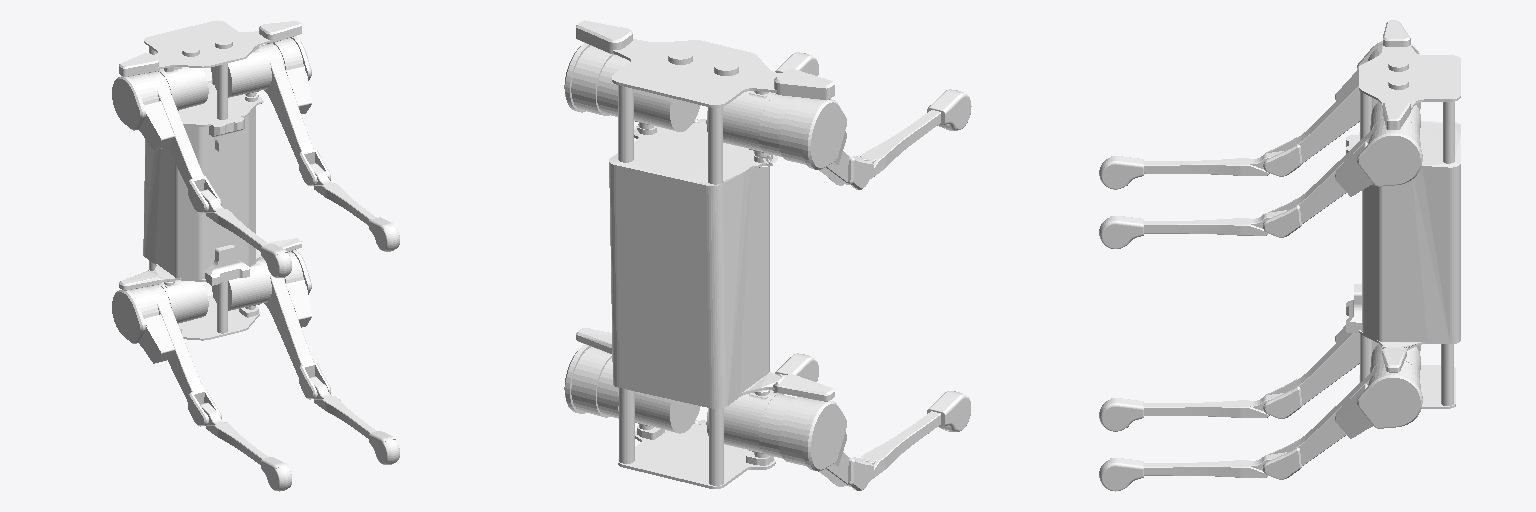
URDF robot description (plane):
<?xml version="1.0" ?>
<robot name="plane">
  <link name="chassis">
  <contact>
      <lateral_friction value="1"/>
  </contact>
    <inertial>
      <origin rpy="0 0 0" xyz="0 0.03 0.043794"/>
       <mass value="13.715"/>
       <inertia ixx="0" ixy="0" ixz="0" iyy="0" iyz="0" izz="0"/>
    </inertial>
    <visual>
      <origin rpy="0 0 0" xyz="0 0 0.043794"/>
      <geometry>
        <mesh filename="chassis.obj" scale="1 1 1"/>
      </geometry>
       <material name="white">
        <color rgba="1 1 1 1"/>
      </material>
    </visual>
    <collision>
      <origin rpy="-1.57 0 0" xyz="0 0 0.043794"/>
      <geometry>
        <mesh filename="chassis_vhacd_mod.obj" scale="1 1 1"/>
      </geometry>
    </collision>
  </link>
  <link name="FR_hip_motor">
    <contact>
      <lateral_friction value="1"/>
    </contact>
    <inertial>
       <origin rpy="0 0 0" xyz="0.02 0 0"/>
       <mass value="1.095"/>
       <inertia ixx="0" ixy="0" ixz="0" iyy="0" iyz="0" izz="0"/>
    </inertial>

    <visual>
      <origin rpy="0 0 0" xyz="0 0 0"/>
      <geometry>
        <mesh filename="hip_motor_mirror.obj" scale="1 1 1"/>
      </geometry>
       <material name="white"/>
    </visual>

    <collision>
      <origin rpy="0 0 0" xyz="0 0 0"/>
      <geometry>
        <mesh filename="hip_motor_mirror.stl" scale="1 1 1"/>
      </geometry>
    </collision>
    </link>

    <joint name="FR_hip_motor_2_chassis_joint" type="revolute">
    <axis xyz="0 0 -1"/>
    <parent link="chassis"/>
    <child link="FR_hip_motor"/>
    <origin rpy="0 0 0" xyz="-0.0817145 0 0.242889"/>
    <limit effort="100" velocity="100" lower="-0.873" upper="1.0472"/>
    <joint_properties damping=".0" friction=".0"/>
  </joint>

     <link name="FR_upper_leg">
  <contact>
      <lateral_friction value="1"/>
  </contact>
    <inertial>
     <origin rpy="0 0 0" xyz="0 -0.04 -0.04"/>
       <mass value="1.527"/>
       <inertia ixx="0" ixy="0" ixz="0" iyy="0" iyz="0" izz="0"/>
    </inertial>
       <visual>
      <origin rpy="0 0 0" xyz="0 0 0"/>
      <geometry>
        <mesh filename="upper_leg_mirror.obj" scale="1 1 1"/>
      </geometry>
       <material name="white"/>
    </visual>

    <collision>
      <origin rpy="0 0 0" xyz="0 0 0"/>
      <geometry>
        <mesh filename="upper_leg_right_vhacd.obj" scale="1 1 1"/>
      </geometry>
    </collision>

    </link>

    <joint name="FR_upper_leg_2_hip_motor_joint" type="revolute">
    <axis xyz="1 0 0"/>
    <parent link="FR_hip_motor"/>
    <child link="FR_upper_leg"/>
    <origin rpy="0 0 0" xyz="-0.053565 0 0"/>
    <limit effort="100" velocity="100" lower="-1.3" upper="3.4"/>
    <joint_properties damping=".0" friction=".0"/>
  </joint>

     <link name="FR_lower_leg">
  <contact>
      <lateral_friction value="1"/>
  </contact>
    <inertial>
      <origin rpy="0 0 0" xyz="0 -0.16 -0.02"/>
       <mass value="0.241"/>
       <inertia ixx="0" ixy="0" ixz="0" iyy="0" iyz="0" izz="0"/>
    </inertial>
       <visual>
      <origin rpy="0 1.57079 0" xyz="0 0.0 0"/>
      <geometry>
        <mesh filename="lower_leg3.obj" scale="1 1 1"/>
      </geometry>
       <material name="white"/>
    </visual>

    <collision>
      <origin rpy="0 1.57079 0" xyz="0 0.0 0"/>
      <geometry>
        <mesh filename="lower_leg_3.stl" scale="1 1 1"/>
      </geometry>
    </collision>
    </link>
    <joint name="FR_lower_leg_2_upper_leg_joint" type="revolute">
    <axis xyz="1 0 0"/>
    <parent link="FR_upper_leg"/>
    <child link="FR_lower_leg"/>

    <origin rpy="0 0 0" xyz="0.02069  -0.20833  -0.1422"/>
    <limit effort="100" velocity="100" lower="-2.164" upper="0"/>
    <joint_properties damping=".0" friction=".0"/>
  </joint>


   <link name="FL_hip_motor">
  <contact>
      <lateral_friction value="1"/>
  </contact>
    <inertial>
     <origin rpy="0 0 0" xyz="-.02 0 0"/>
       <mass value="1.095"/>
       <inertia ixx="0" ixy="0" ixz="0" iyy="0" iyz="0" izz="0"/>
    </inertial>
    <visual>
      <origin rpy="0 0 0" xyz="0 0 0"/>
      <geometry>
        <mesh filename="hip_motor.obj" scale="1 1 1"/>
      </geometry>
       <material name="white">
      </material>
    </visual>

    <collision>
      <origin rpy="0 0 0" xyz="0 0 0"/>
      <geometry>
        <mesh filename="hip_motor.stl" scale="1 1 1"/>
      </geometry>
    </collision>

      </link>

   <joint name="FL_hip_motor_2_chassis_joint" type="revolute">
    <axis xyz="0 0 1"/>
    <parent link="chassis"/>
    <child link="FL_hip_motor"/>
    <origin rpy="0 0 0" xyz="0.0817145 0 0.242889"/>
    <limit effort="100" velocity="100" lower="-0.873" upper="1.0472"/>
    <joint_properties damping=".0" friction=".0"/>
  </joint>

  <link name="FL_upper_leg">
  <contact>
      <lateral_friction value="1"/>
  </contact>
    <inertial>
       <origin rpy="0 0 0" xyz="0 -0.04 -0.04"/>
       <mass value="1.527"/>
       <inertia ixx="0" ixy="0" ixz="0" iyy="0" iyz="0" izz="0"/>
    </inertial>
     <visual>
      <origin rpy="0 0 0" xyz="0 0 0"/>
      <geometry>

        <mesh filename="upper_leg_left.obj" scale="1 1 1"/>
      </geometry>
       <material name="white">
      </material>
    </visual>

     <collision>
      <origin rpy="0 0 0" xyz="0 0 0"/>
      <geometry>
        <mesh filename="upper_leg_left_vhacd.obj" scale="1 1 1"/>
      </geometry>
    </collision>

    </link>


  <joint name="FL_upper_leg_2_hip_motor_joint" type="revolute">
    <axis xyz="1 0 0"/>
    <parent link="FL_hip_motor"/>
    <child link="FL_upper_leg"/>
    <origin rpy="0 0 0" xyz="0.055855  0 0"/>
    <limit effort="100" velocity="100" lower="-1.3" upper="3.4"/>
    <joint_properties damping=".0" friction=".0"/>
  </joint>


  <link name="FL_lower_leg">
  <contact>
      <lateral_friction value="1"/>
  </contact>
    <inertial>
      <origin rpy="0 0 0" xyz="0 -0.16 -0.02"/>
       <mass value="0.241"/>
       <inertia ixx="0" ixy="0" ixz="0" iyy="0" iyz="0" izz="0"/>
    </inertial>
   <visual>
      <origin rpy="0 1.57079 0" xyz="0 0 0"/>
      <geometry>
        <mesh filename="lower_leg3.obj" scale="1 1 1"/>
      </geometry>
       <material name="white">
       </material>
    </visual>

     <collision>
      <origin rpy="0 1.57079 0" xyz="0 0 0"/>
      <geometry>
        <mesh filename="lower_leg_3.stl" scale="1 1 1"/>
      </geometry>
    </collision>

    </link>

  <joint name="FL_lower_leg_2_upper_leg_joint" type="revolute">
    <axis xyz="1 0 0"/>
    <parent link="FL_upper_leg"/>
    <child link="FL_lower_leg"/>
    <origin rpy="0 0 0" xyz="-0.02069  -0.20833  -0.1422"/>
    <limit effort="100" velocity="100" lower="-2.164" upper="0"/>
    <joint_properties damping=".0" friction=".0"/>
  </joint>






   <link name="RR_hip_motor">
  <contact>
      <lateral_friction value="1"/>
  </contact>
    <inertial>
      <origin rpy="0 0 0" xyz="0.02 0 0"/>
       <mass value="1.095"/>
       <inertia ixx="0" ixy="0" ixz="0" iyy="0" iyz="0" izz="0"/>
    </inertial>

    <visual>
      <origin rpy="0 0 0" xyz="0 0 0"/>
      <geometry>
        <mesh filename="hip_motor_mirror.obj" scale="1 1 1"/>
      </geometry>
       <material name="white"/>
    </visual>

     <collision>
      <origin rpy="0 0 0" xyz="0 0 0"/>
      <geometry>
        <mesh filename="hip_motor_mirror.stl" scale="1 1 1"/>
      </geometry>
    </collision>

    </link>

    <joint name="RR_hip_motor_2_chassis_joint" type="revolute">
    <axis xyz="0 0 -1"/>
    <parent link="chassis"/>
    <child link="RR_hip_motor"/>
    <origin rpy="0 0 0" xyz="-0.0817145 0 -0.194401"/>
    <limit effort="100" velocity="100" lower="-0.873" upper="1.0472"/>
    <joint_properties damping=".0" friction=".0"/>
  </joint>

     <link name="RR_upper_leg">
  <contact>
      <lateral_friction value="1"/>
  </contact>
    <inertial>
     <origin rpy="0 0 0" xyz="0 -0.04 -0.04"/>
       <mass value="1.527"/>
       <inertia ixx="0" ixy="0" ixz="0" iyy="0" iyz="0" izz="0"/>
    </inertial>
       <visual>
      <origin rpy="0 0 0" xyz="0 0 0"/>
      <geometry>
        <mesh filename="upper_leg_mirror2.obj" scale="1 1 1"/>
      </geometry>
       <material name="white"/>
    </visual>

    <collision>
      <origin rpy="0 0 0" xyz="0 0 0"/>
      <geometry>
        <mesh filename="upper_leg_right_vhacd.obj" scale="1 1 1"/>
      </geometry>
    </collision>

    </link>

    <joint name="RR_upper_leg_2_hip_motor_joint" type="revolute">
    <axis xyz="1 0 0"/>
    <parent link="RR_hip_motor"/>
    <child link="RR_upper_leg"/>
    <origin rpy="0 0 0" xyz="-0.053565 0 0"/>
    <limit effort="100" velocity="100" lower="-1.3" upper="3.4"/>
    <joint_properties damping=".0" friction=".0"/>
  </joint>

     <link name="RR_lower_leg">
  <contact>
      <lateral_friction value="1"/>
  </contact>
    <inertial>
      <origin rpy="0 0 0" xyz="0 -0.16 -0.02"/>
       <mass value="0.241"/>
       <inertia ixx="0" ixy="0" ixz="0" iyy="0" iyz="0" izz="0"/>
    </inertial>
       <visual>
      <origin rpy="0 1.57079 0" xyz="0 0 0"/>
      <geometry>
        <mesh filename="lower_leg3.obj" scale="1 1 1"/>
      </geometry>
       <material name="white"/>
    </visual>

     <collision>
      <origin rpy="0 1.57079 0" xyz="0 0 0"/>
      <geometry>
        <mesh filename="lower_leg_3.stl" scale="1 1 1"/>
      </geometry>
    </collision>

    </link>

    <joint name="RR_lower_leg_2_upper_leg_joint" type="revolute">
    <axis xyz="1 0 0"/>
    <parent link="RR_upper_leg"/>
    <child link="RR_lower_leg"/>
    <origin rpy="0 0 0" xyz="0.02069  -0.20833  -0.1422"/>
    <limit effort="100" velocity="100" lower="-2.164" upper="0"/>
    <joint_properties damping=".0" friction=".0"/>
  </joint>


   <link name="RL_hip_motor">
  <contact>
      <lateral_friction value="1"/>
  </contact>
    <inertial>
      <origin rpy="0 0 0" xyz="-.02 0 0"/>
       <mass value="1.095"/>
       <inertia ixx="0" ixy="0" ixz="0" iyy="0" iyz="0" izz="0"/>
    </inertial>
    <visual>
      <origin rpy="0 0 0" xyz="0 0 0"/>
      <geometry>
        <mesh filename="hip_motor.obj" scale="1 1 1"/>
      </geometry>
       <material name="white"/>
    </visual>

    <collision>
      <origin rpy="0 0 0" xyz="0 0 0"/>
      <geometry>
        <mesh filename="hip_motor.stl" scale="1 1 1"/>
      </geometry>
    </collision>

      </link>

   <joint name="RL_hip_motor_2_chassis_joint" type="revolute">
    <axis xyz="0 0 1"/>
    <parent link="chassis"/>
    <child link="RL_hip_motor"/>

    <origin rpy="0 0 0" xyz="0.0817145 0 -0.194401"/>
    <limit effort="100" velocity="100" lower="-0.873" upper="1.0472"/>
    <joint_properties damping=".0" friction=".0"/>
  </joint>

  <link name="RL_upper_leg">
  <contact>
      <lateral_friction value="1"/>
  </contact>
    <inertial>
      <origin rpy="0 0 0" xyz="0 -0.04 -0.04"/>
       <mass value="1.527"/>
       <inertia ixx="0" ixy="0" ixz="0" iyy="0" iyz="0" izz="0"/>
    </inertial>
     <visual>
      <origin rpy="0 0 0" xyz="0 0 0"/>
      <geometry>
        <mesh filename="upper_leg_left2.obj" scale="1 1 1"/>
      </geometry>
       <material name="white"/>
    </visual>

    <collision>
      <origin rpy="0 0 0" xyz="0 0 0"/>
      <geometry>
        <mesh filename="upper_leg_left_vhacd.obj" scale="1 1 1"/>
      </geometry>
    </collision>

    </link>


  <joint name="RL_upper_leg_2_hip_motor_joint" type="revolute">
    <axis xyz="1 0 0"/>
    <parent link="RL_hip_motor"/>
    <child link="RL_upper_leg"/>
    <origin rpy="0 0 0" xyz="0.055855  0 0"/>
    <limit effort="100" velocity="100" lower="-1.3" upper="3.4"/>
    <joint_properties damping=".0" friction=".0"/>
  </joint>


  <link name="RL_lower_leg">
  <contact>
      <lateral_friction value="1"/>
  </contact>
    <inertial>
      <origin rpy="0 0 0" xyz="0 -0.16 -0.02"/>
       <mass value="0.241"/>
       <inertia ixx="0" ixy="0" ixz="0" iyy="0" iyz="0" izz="0"/>
    </inertial>
   <visual>
      <origin rpy="0 1.57079 0" xyz="0 0 0"/>
      <geometry>
        <mesh filename="lower_leg3.obj" scale="1 1 1"/>
      </geometry>
       <material name="white"/>
    </visual>

    <collision>
      <origin rpy="0 1.57079 0" xyz="0 0 0"/>
      <geometry>
        <mesh filename="lower_leg_3.stl" scale="1 1 1"/>
      </geometry>
    </collision>

    </link>

  <joint name="RL_lower_leg_2_upper_leg_joint" type="revolute">
    <axis xyz="1 0 0"/>
    <parent link="RL_upper_leg"/>
    <child link="RL_lower_leg"/>
    <origin rpy="0 0 0" xyz="-0.02069  -0.20833  -0.1422"/>
    <limit effort="100" velocity="100" lower="-2.164" upper="0"/>
    <joint_properties damping=".0" friction=".0"/>
  </joint>

   <link name="toeRL">
    <contact>
      <friction_anchor/>
      <stiffness value="30000.0"/>
      <damping value="1000.0"/>
      <spinning_friction value="0.1"/>
      <lateral_friction value="1.0"/>
    </contact>
    <visual>
      <origin rpy="0 0 0" xyz="0 0 0"/>
      <geometry>
        <sphere radius="0.0"/>
      </geometry>
      <material name="white"/>
    </visual>
    <collision>
      <origin rpy="0 0 0" xyz="0 0 0"/>
      <geometry>
        <sphere radius="0.03"/>
      </geometry>
    </collision>
    <inertial>
      <mass value="0.1"/>
      <inertia ixx="0.000025" ixy="0" ixz="0" iyy="0.000025" iyz="0" izz="0.000025"/>
    </inertial>
  </link>
  <joint name="jtoeRL" type="fixed">
    <parent link="RL_lower_leg"/>
    <child link="toeRL"/>
    <origin xyz="0 -0.25 -0.022"/>
    <dynamics damping="0.0" friction="0.0"/>
  </joint>

  <link name="toeRR">
    <contact>
      <friction_anchor/>
      <stiffness value="30000.0"/>
      <damping value="1000.0"/>
      <spinning_friction value="0.1"/>
      <lateral_friction value="1.0"/>
    </contact>
    <visual>
      <origin rpy="0 0 0" xyz="0 0 0"/>
      <geometry>
        <sphere radius="0.0"/>
      </geometry>
      <material name="white"/>
    </visual>
    <collision>
      <origin rpy="0 0 0" xyz="0 0 0"/>
      <geometry>
        <sphere radius="0.03"/>
      </geometry>
    </collision>
    <inertial>
      <mass value="0.1"/>
      <inertia ixx="0.000025" ixy="0" ixz="0" iyy="0.000025" iyz="0" izz="0.000025"/>
    </inertial>
  </link>
  <joint name="jtoeRR" type="fixed">
    <parent link="RR_lower_leg"/>
    <child link="toeRR"/>
    <origin xyz="0 -0.25 -0.022"/>
    <dynamics damping="0.0" friction="0.0"/>
  </joint>

  <link name="toeFL">
    <contact>
      <friction_anchor/>
      <stiffness value="30000.0"/>
      <damping value="1000.0"/>
      <spinning_friction value="0.1"/>
      <lateral_friction value="1.0"/>
    </contact>
    <visual>
      <origin rpy="0 0 0" xyz="0 0 0"/>
      <geometry>
        <sphere radius="0.0"/>
      </geometry>
      <material name="white"/>
    </visual>
    <collision>
      <origin rpy="0 0 0" xyz="0 0 0"/>
      <geometry>
        <sphere radius="0.03"/>
      </geometry>
    </collision>
    <inertial>
      <mass value="0.1"/>
      <inertia ixx="0.000025" ixy="0" ixz="0" iyy="0.000025" iyz="0" izz="0.000025"/>
    </inertial>
  </link>
  <joint name="jtoeFL" type="fixed">
    <parent link="FL_lower_leg"/>
    <child link="toeFL"/>
    <origin xyz="0 -0.25 -0.022"/>
    <dynamics damping="0.0" friction="0.0"/>
  </joint>

  <link name="toeFR">
    <contact>
      <friction_anchor/>
      <stiffness value="30000.0"/>
      <damping value="1000.0"/>
      <spinning_friction value="0.1"/>
      <lateral_friction value="1.0"/>
    </contact>
    <visual>
      <origin rpy="0 0 0" xyz="0 0 0"/>
      <geometry>
        <sphere radius="0.0"/>
      </geometry>
      <material name="white"/>
    </visual>
    <collision>
      <origin rpy="0 0 0" xyz="0 0 0"/>
      <geometry>
        <sphere radius="0.03"/>
      </geometry>
    </collision>
    <inertial>
      <mass value="0.1"/>
      <inertia ixx="0.000025" ixy="0" ixz="0" iyy="0.000025" iyz="0" izz="0.000025"/>
    </inertial>
  </link>
  <joint name="jtoeFR" type="fixed">
    <parent link="FR_lower_leg"/>
    <child link="toeFR"/>
    <origin xyz="0 -0.25 -0.022"/>
    <dynamics damping="0.0" friction="0.0"/>
  </joint>
</robot>


--- Facts derived from the render (not from the file) ---
Views: 3 orthographic renders of the robot side by side, from view 1: azimuth 30°, elevation 25°; view 2: azimuth 150°, elevation 25°; view 3: azimuth 270°, elevation 25°.
Robot: plane — 17 links, 16 joints (12 revolute, 4 fixed); root link chassis; default pose: all joints at 0.
Links seen in each view (by area): view 1: chassis, FR_upper_leg, RR_upper_leg, FL_upper_leg, RL_upper_leg, RR_lower_leg, FR_lower_leg, FL_lower_leg, RL_lower_leg, FL_hip_motor, RL_hip_motor, RR_hip_motor (+1 smaller); view 2: chassis, RR_upper_leg, FR_upper_leg, FL_upper_leg, RL_upper_leg, FR_lower_leg, RR_lower_leg, RR_hip_motor, FR_hip_motor, FL_hip_motor, RL_hip_motor, RL_lower_leg (+1 smaller); view 3: chassis, RL_upper_leg, FL_upper_leg, FR_upper_leg, RR_upper_leg, FL_lower_leg, RL_lower_leg, RR_lower_leg, FR_lower_leg.
Link boxes in pixels (<box>): chassis: <box>119,20,301,340</box>; FR_upper_leg: <box>112,71,221,212</box>; RR_upper_leg: <box>112,285,221,426</box>; FL_upper_leg: <box>259,36,330,185</box>; RL_upper_leg: <box>258,250,330,399</box>; RR_lower_leg: <box>200,403,291,491</box>; FR_lower_leg: <box>200,189,291,277</box>; FL_lower_leg: <box>310,163,399,251</box>; RL_lower_leg: <box>310,376,399,464</box>; FL_hip_motor: <box>211,48,269,97</box>; RL_hip_motor: <box>212,261,269,310</box>; RR_hip_motor: <box>159,280,208,323</box>; chassis: <box>576,20,834,488</box>; RR_upper_leg: <box>759,394,873,490</box>; FR_upper_leg: <box>759,94,873,189</box>; FL_upper_leg: <box>564,43,705,123</box>; RL_upper_leg: <box>564,344,706,425</box>; FR_lower_leg: <box>853,89,971,178</box>; RR_lower_leg: <box>853,391,970,480</box>; RR_hip_motor: <box>706,390,783,457</box>; FR_hip_motor: <box>706,91,775,157</box>; FL_hip_motor: <box>634,89,700,131</box>; RL_hip_motor: <box>618,392,700,433</box>; RL_lower_leg: <box>699,353,818,423</box>; chassis: <box>1346,20,1460,408</box>; RL_upper_leg: <box>1263,361,1422,479</box>; FL_upper_leg: <box>1263,119,1422,237</box>; FR_upper_leg: <box>1263,41,1419,176</box>; RR_upper_leg: <box>1263,325,1359,418</box>; FL_lower_leg: <box>1099,210,1286,248</box>; RL_lower_leg: <box>1099,452,1286,491</box>; RR_lower_leg: <box>1099,393,1283,431</box>; FR_lower_leg: <box>1099,151,1283,189</box>.
Size in the robot's own frame: 0.386 by 0.5921 by 0.7047 metres.
Meshes: 8 distinct files referenced, 13 mesh visuals loaded (8 OBJ).